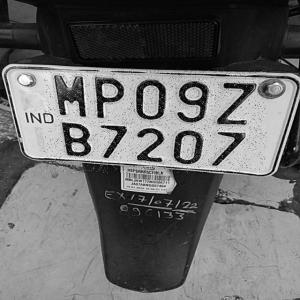Plate: (45, 70, 266, 172)
